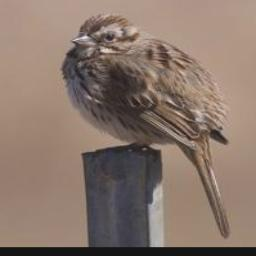Sparrow: (59, 12, 233, 242)
